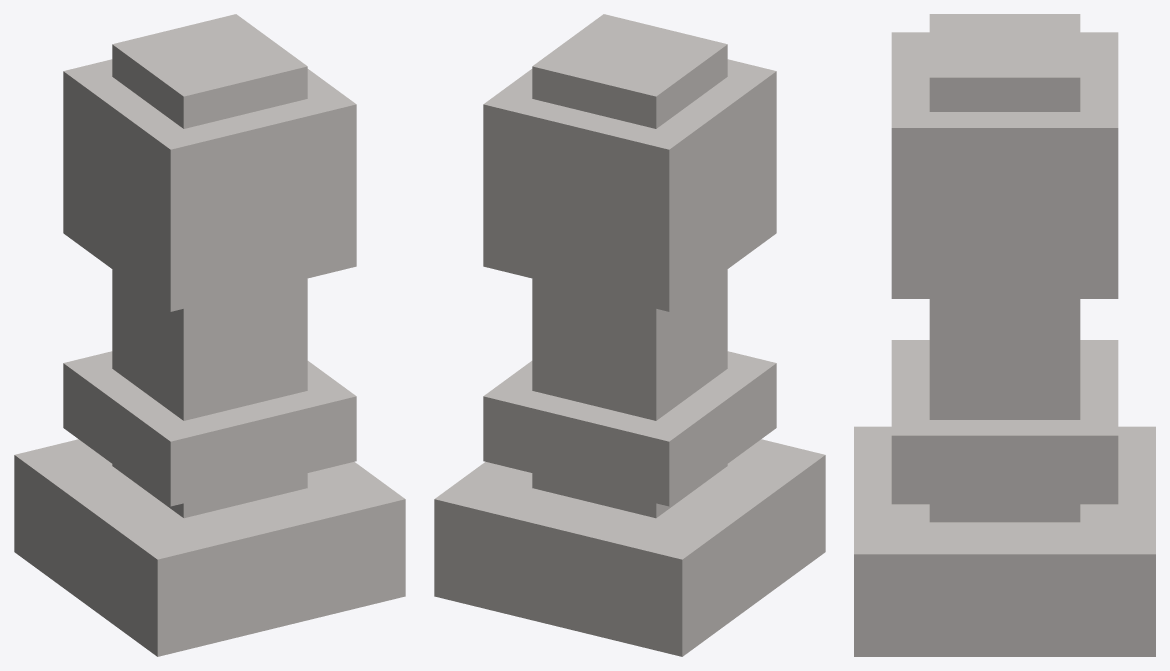
The model's file is token-v2-white.gltf.
3 views of the same model, side by side, from view 1: azimuth 30°, elevation 25°; view 2: azimuth 150°, elevation 25°; view 3: azimuth 270°, elevation 25° (orthographic). The views are drawn at different scales.
Parts seen in each view (by area): view 1: Untitled; view 2: Untitled; view 3: Untitled.
Part boxes in pixels (x1,y1,x2,y2): Untitled: (14, 14, 405, 656); Untitled: (434, 14, 825, 656); Untitled: (854, 14, 1155, 656).
Bounding box in the file's own units: 0.8 × 1.6 × 0.8.
Materials: 1 (1 with a texture image).
